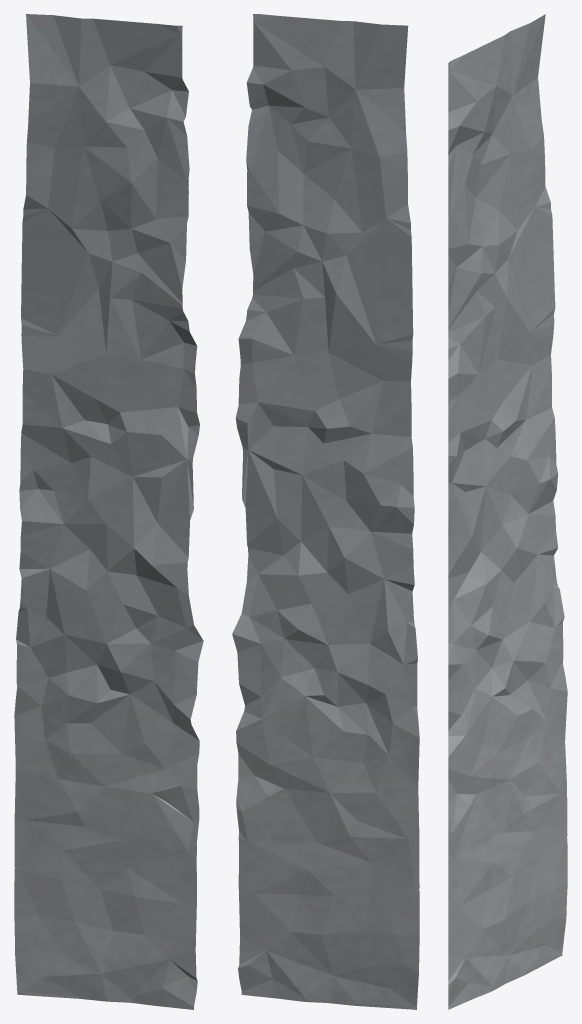
3 views of the same model, side by side, from view 1: azimuth 30°, elevation 25°; view 2: azimuth 210°, elevation 25°; view 3: azimuth 270°, elevation 25° (orthographic). The views are drawn at different scales.
Size of the model in its own units: 0.1123 by 0.8374 by 0.0964.
Materials: 1 (1 with a texture image).
